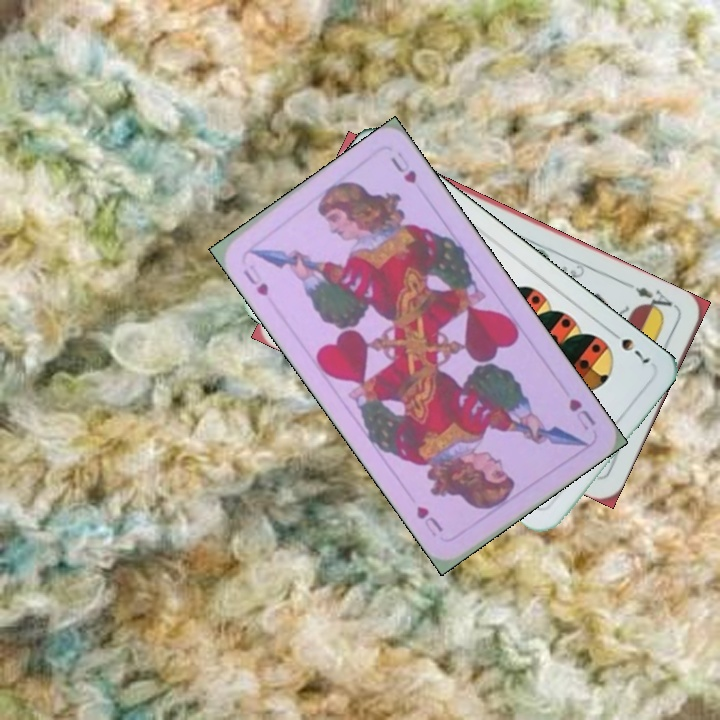EA: (631, 283, 680, 318)
HU: (564, 394, 599, 433), (238, 265, 272, 299)
S7: (605, 326, 654, 367)
